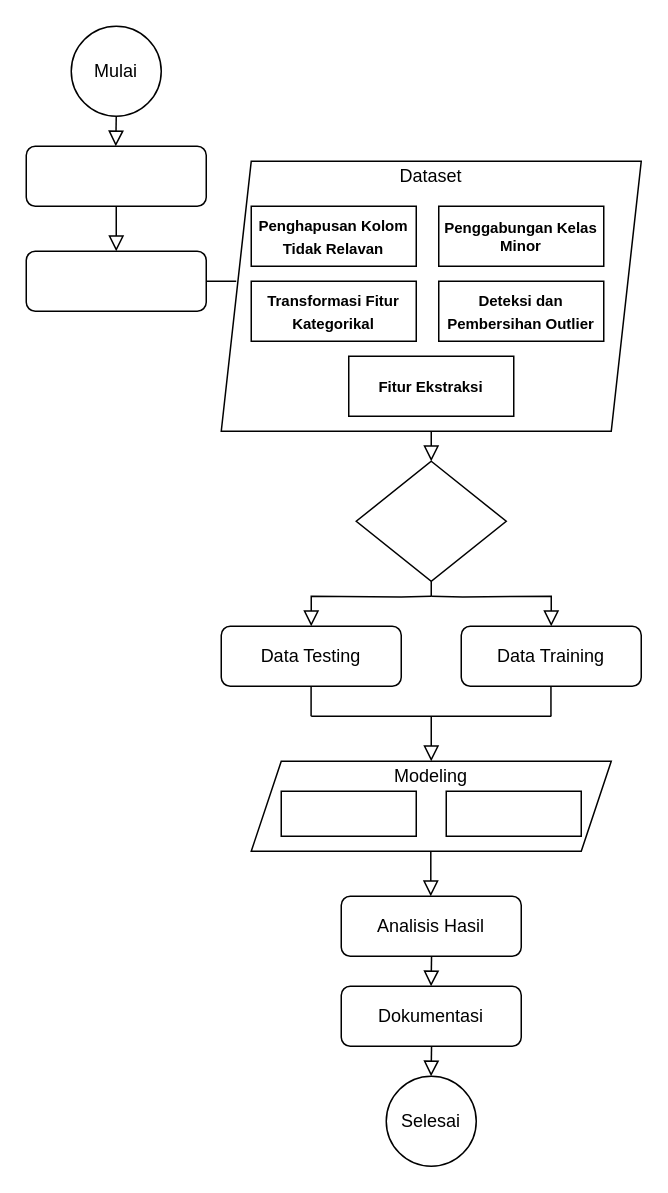
Image size: 668x1193. Some labels were removed from this diagram. Each missing label, with the centre of its shape:
"Data Pre-processing" goes at [115,280].
"EDA" goes at [115,175].
"Logistic Regression" goes at [348,813].
"Naive Bayes" goes at [513,813].
"SMOTE" goes at [430,520].
